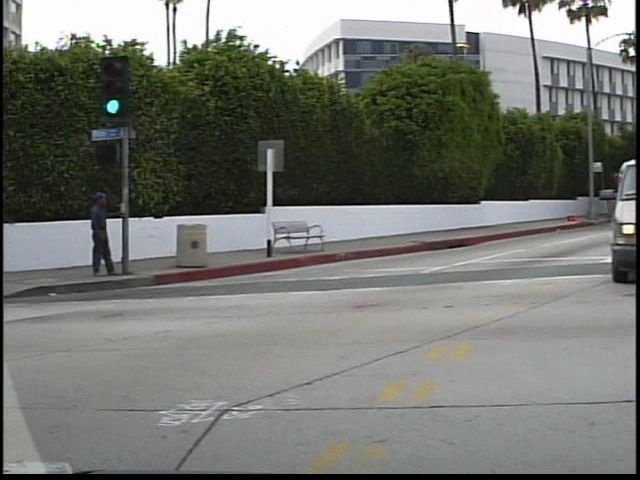person: (79, 192, 124, 279)
